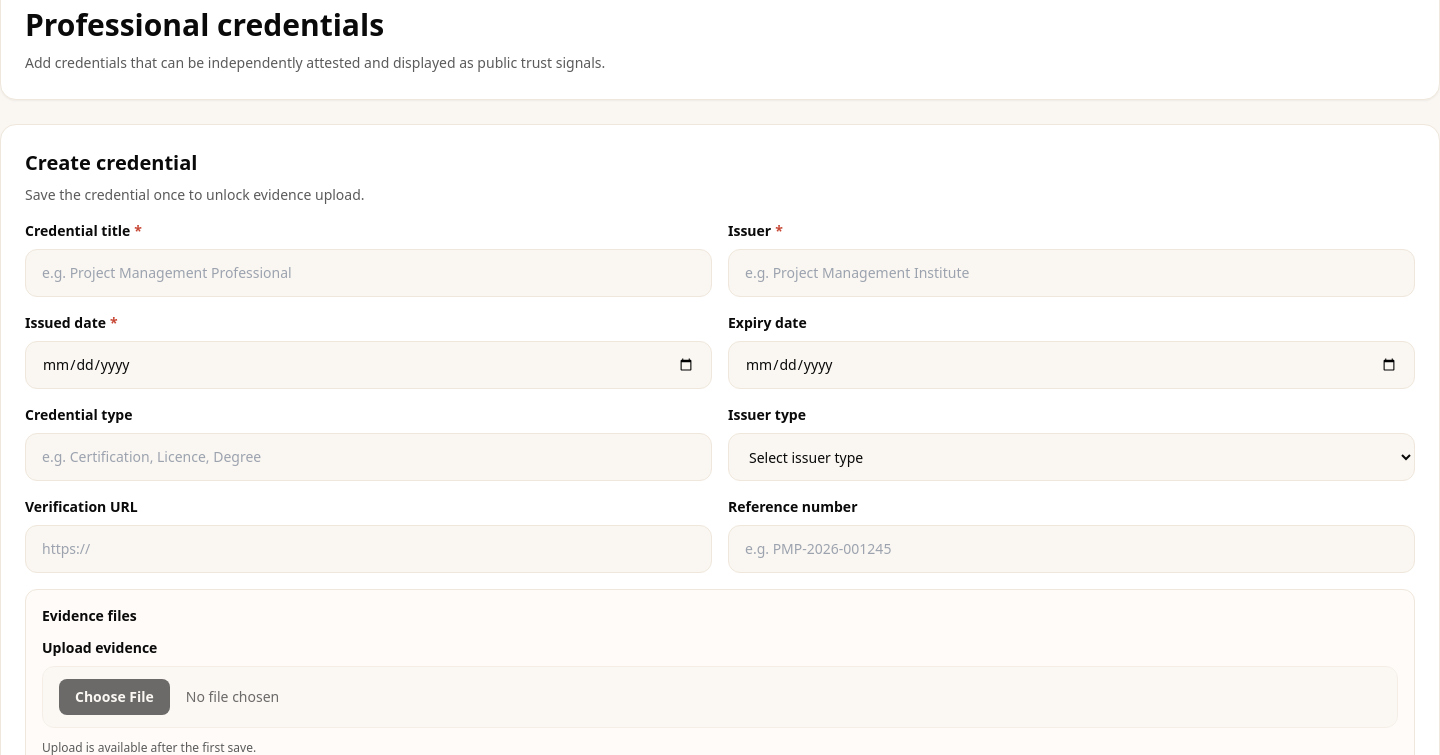
Test: CredentialManager › lists credentials and creates a new credential
Type "Healthcare Compliance Lead" into the field with placeholder "e.g. Project Management Professional" at [368, 273], box [25,249,712,297]
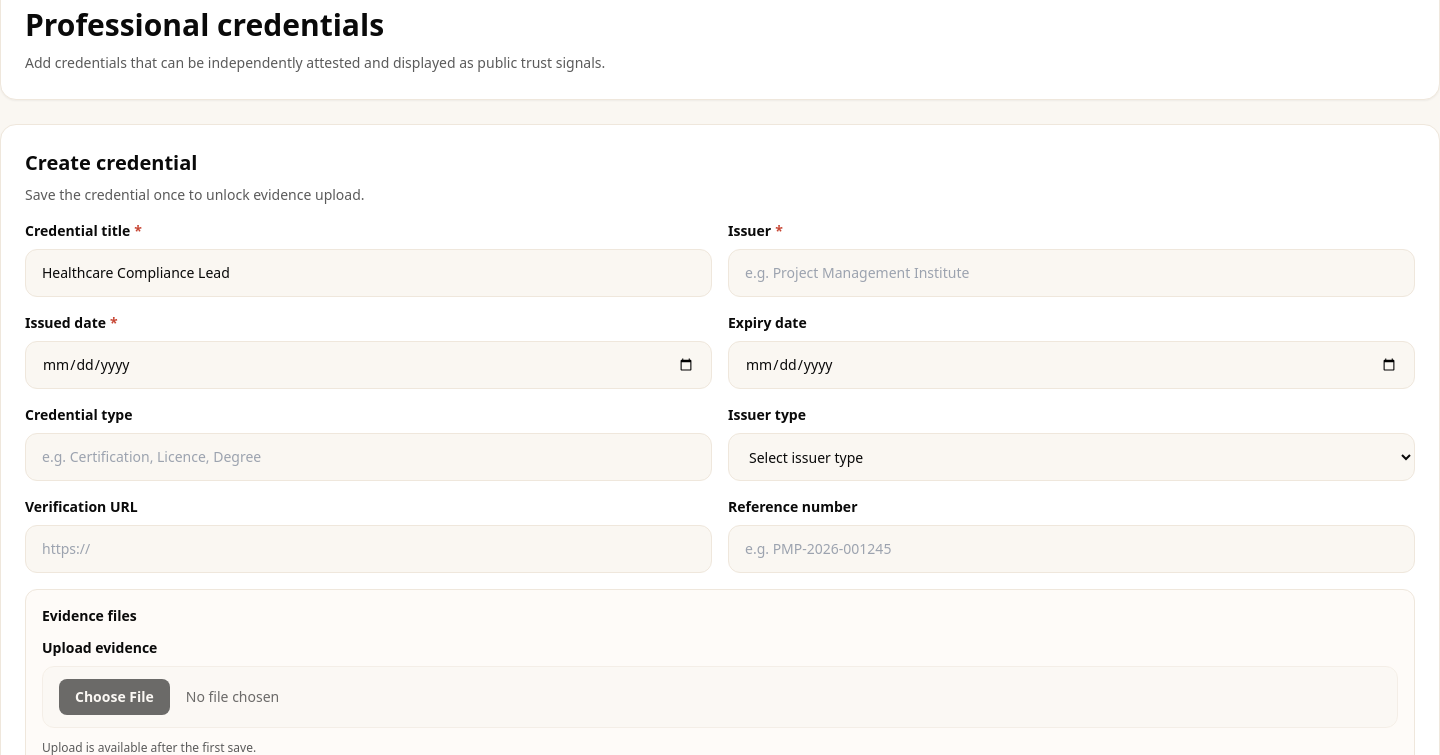
Type "Auracles Institute" into the field with placeholder "e.g. Project Management Institute" at [1072, 273], box [728,249,1415,297]
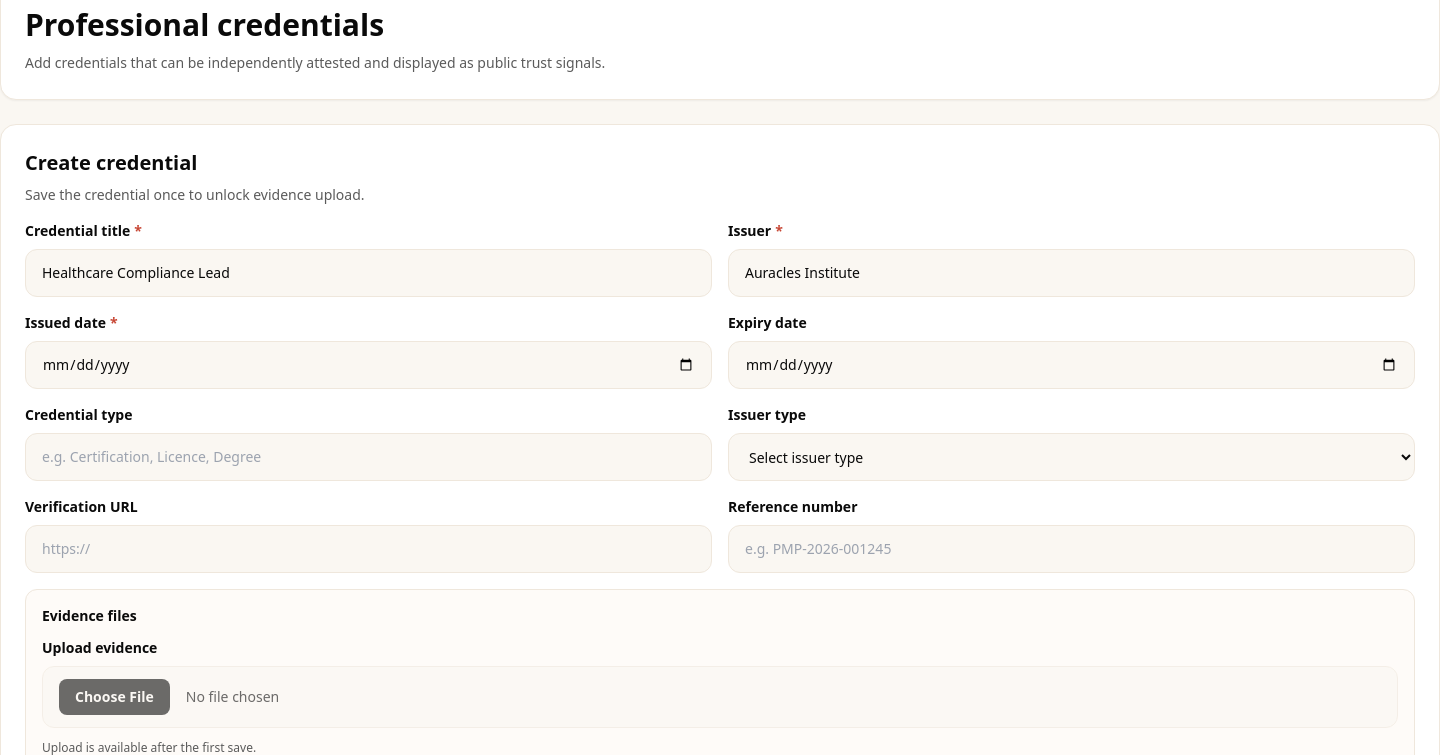
Type "2026-01-01" into the date field labelled "Issued date*" at [368, 365], box [25,341,712,389]
(page scrolled)
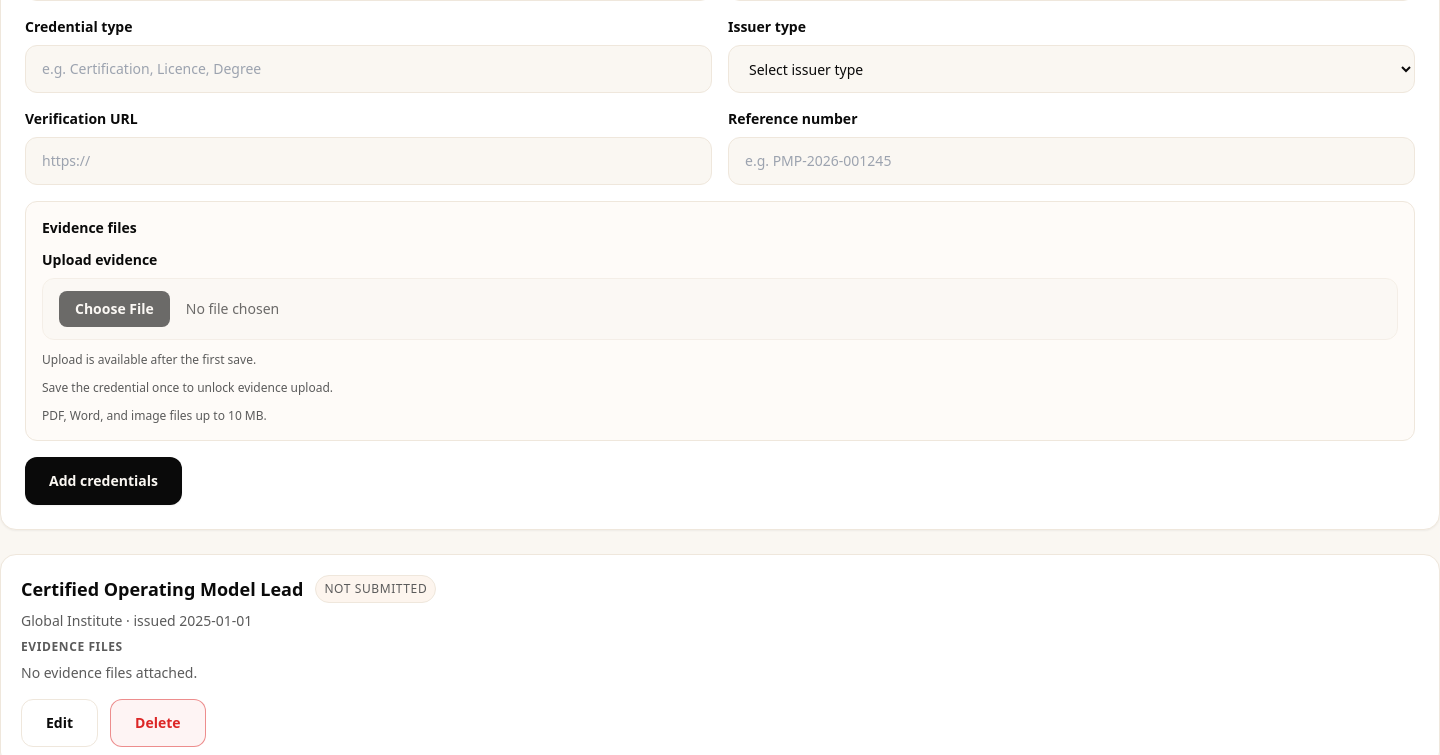
Click the button "Add credentials" at [103, 481], box [25,457,182,505]
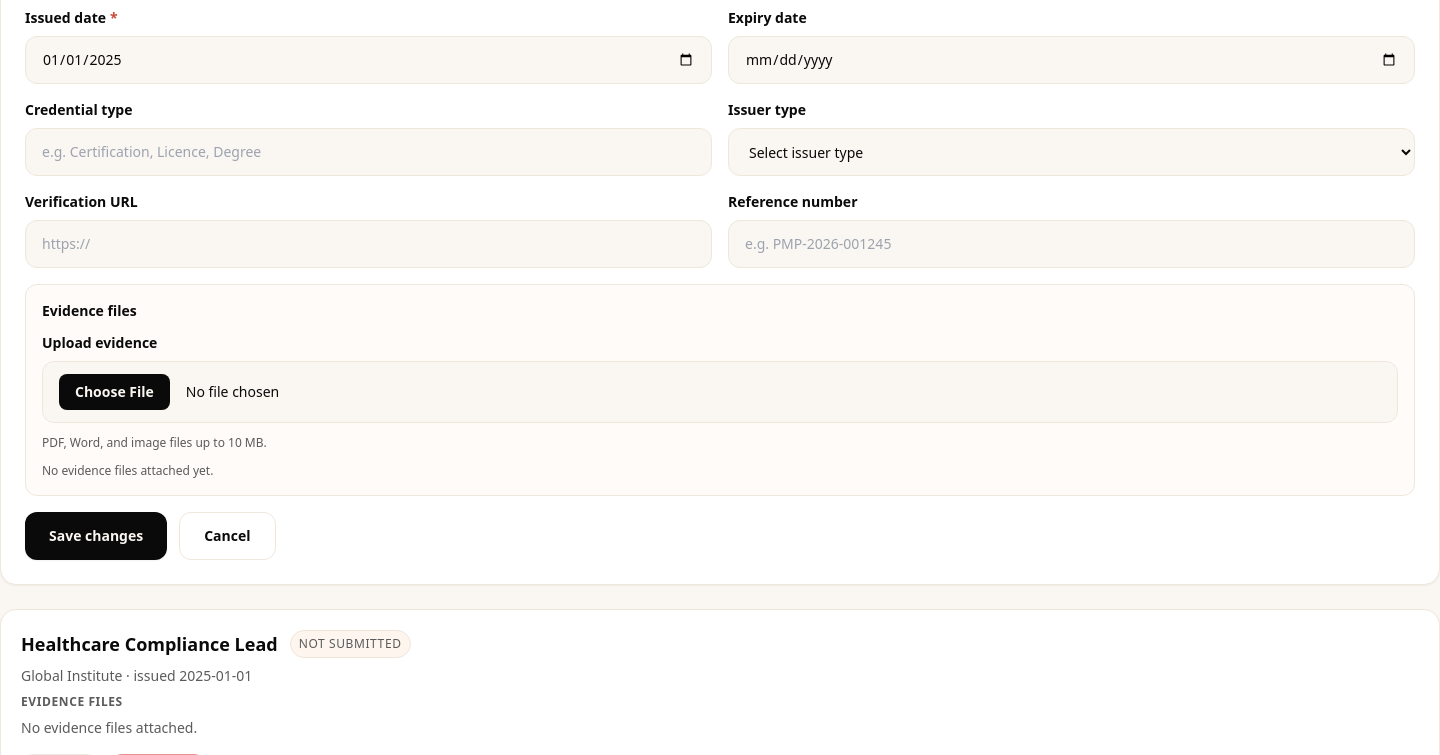
Expected: the file field labelled "Upload evidence" is shown, [42,361,1398,423]
Expected: the heading "Healthcare Compliance Lead" is shown, [21,630,278,658]
Expected: the text "PDF, Word, and image files up to 10 MB." is shown, [42,434,267,451]
